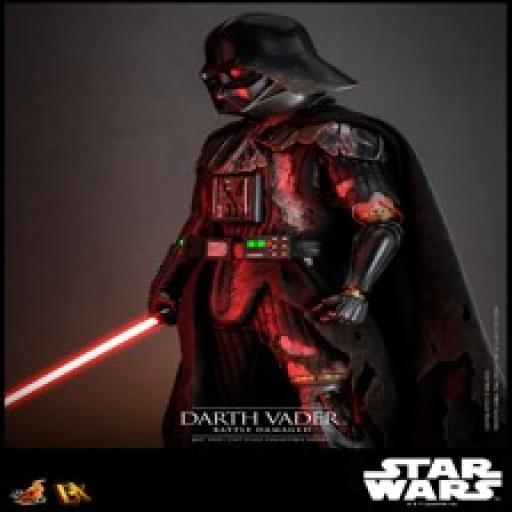human: (144, 10, 413, 440)
sith saber: (0, 290, 196, 415)
